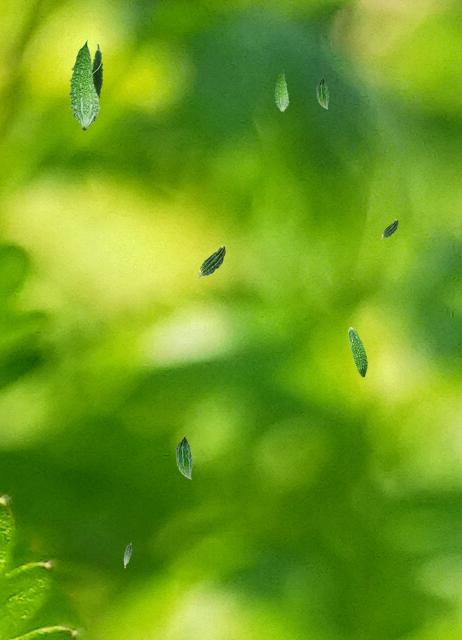ampalaya: (67, 39, 100, 131), (347, 326, 368, 379), (197, 245, 226, 279), (90, 43, 105, 99), (175, 435, 193, 479), (273, 69, 289, 113), (315, 76, 329, 109), (380, 218, 398, 240), (123, 542, 132, 568)
